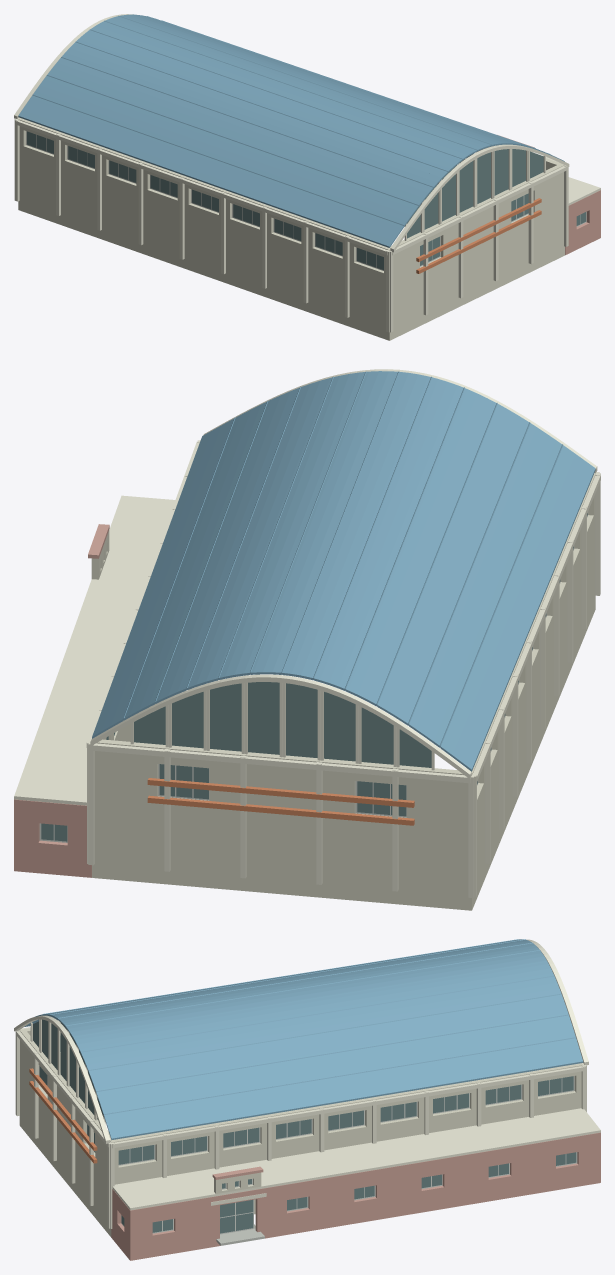
3 renders of one model, top to bottom at view 1: azimuth 30°, elevation 25°; view 2: azimuth 150°, elevation 25°; view 3: azimuth 270°, elevation 25°, orthographic. The views are drawn at different scales.
Parts seen in each view (by area): view 1: gym__roof, gym__wall, gym__white, gym__glass, gym__pink, gym__orange, gym__frame; view 2: gym__roof, gym__wall, gym__white, gym__glass, gym__pink, gym__orange, gym__frame; view 3: gym__roof, gym__white, gym__pink, gym__wall, gym__glass, gym__frame, gym__orange, gym__threshold-entry.
Boxes of the visible parts, box(x1,y1,x2,y2) form: gym__roof: box(18, 14, 564, 247); gym__wall: box(18, 118, 564, 340); gym__white: box(14, 14, 600, 332); gym__glass: box(27, 131, 585, 269); gym__pink: box(498, 135, 600, 255); gym__orange: box(416, 198, 541, 273); gym__frame: box(26, 131, 586, 270); gym__roof: box(92, 371, 595, 771); gym__wall: box(91, 473, 595, 910); gym__white: box(14, 369, 600, 897); gym__glass: box(41, 513, 587, 841); gym__pink: box(14, 524, 109, 877); gym__orange: box(147, 778, 414, 825); gym__frame: box(39, 511, 588, 842); gym__roof: box(24, 939, 583, 1140); gym__white: box(14, 939, 600, 1228); gym__pink: box(111, 1132, 600, 1260); gym__wall: box(19, 1028, 582, 1237); gym__glass: box(33, 1019, 576, 1233); gym__frame: box(39, 1066, 577, 1234); gym__orange: box(29, 1068, 97, 1163); gym__threshold-entry: box(216, 1228, 264, 1245).
Size of the model in its own units: 36.08 by 12.42 by 42.37.
